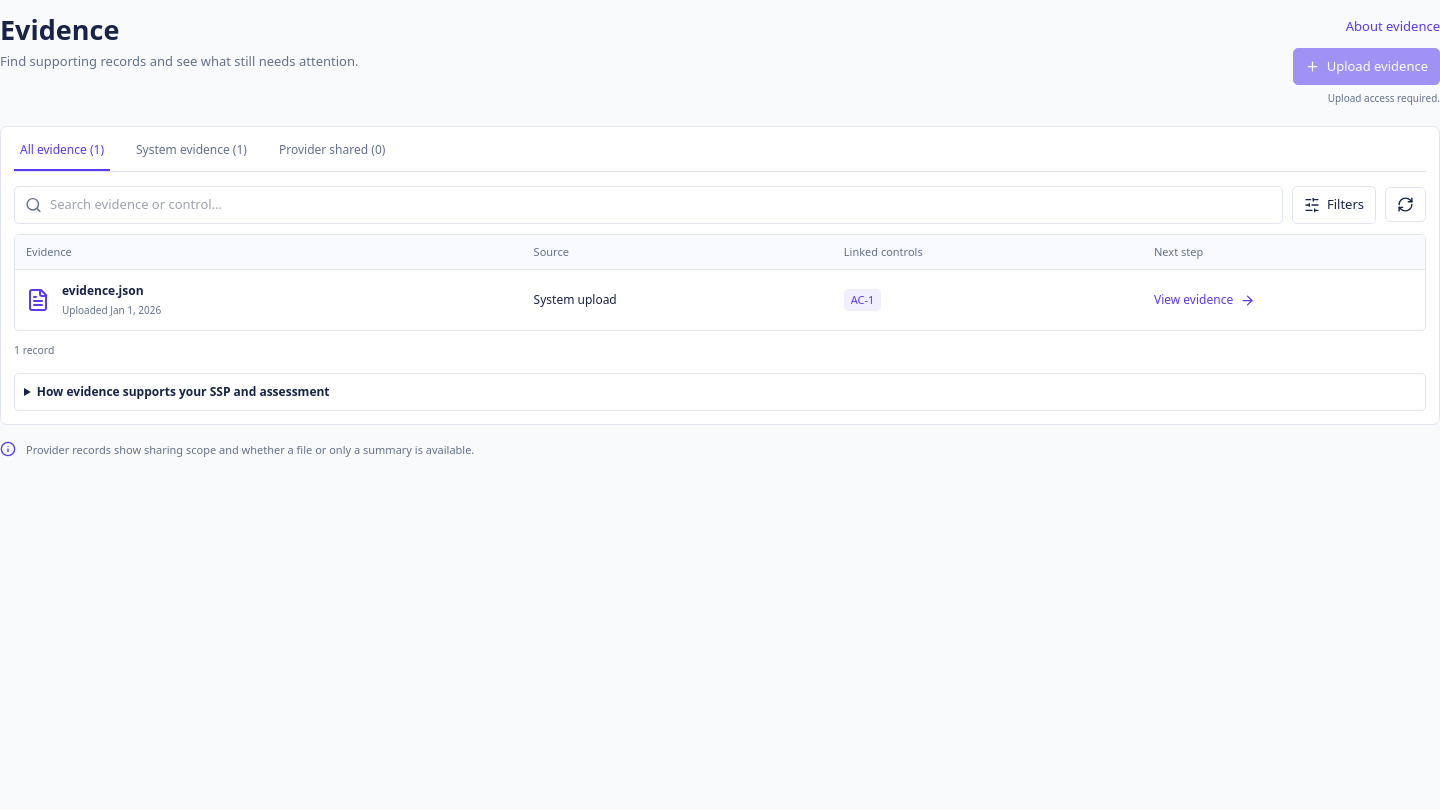
Test: Evidence mutation authorization (#1017) › ignores MissionOwner forged AO preference for repository controls and handlers
The width and height of the screenshot is (1440, 810).
Check: the text "evidence.json" is shown, box [62,282,144,299]
Click the button with aria-label "View evidence evidence.json": (94, 300) [26,282,161,318]
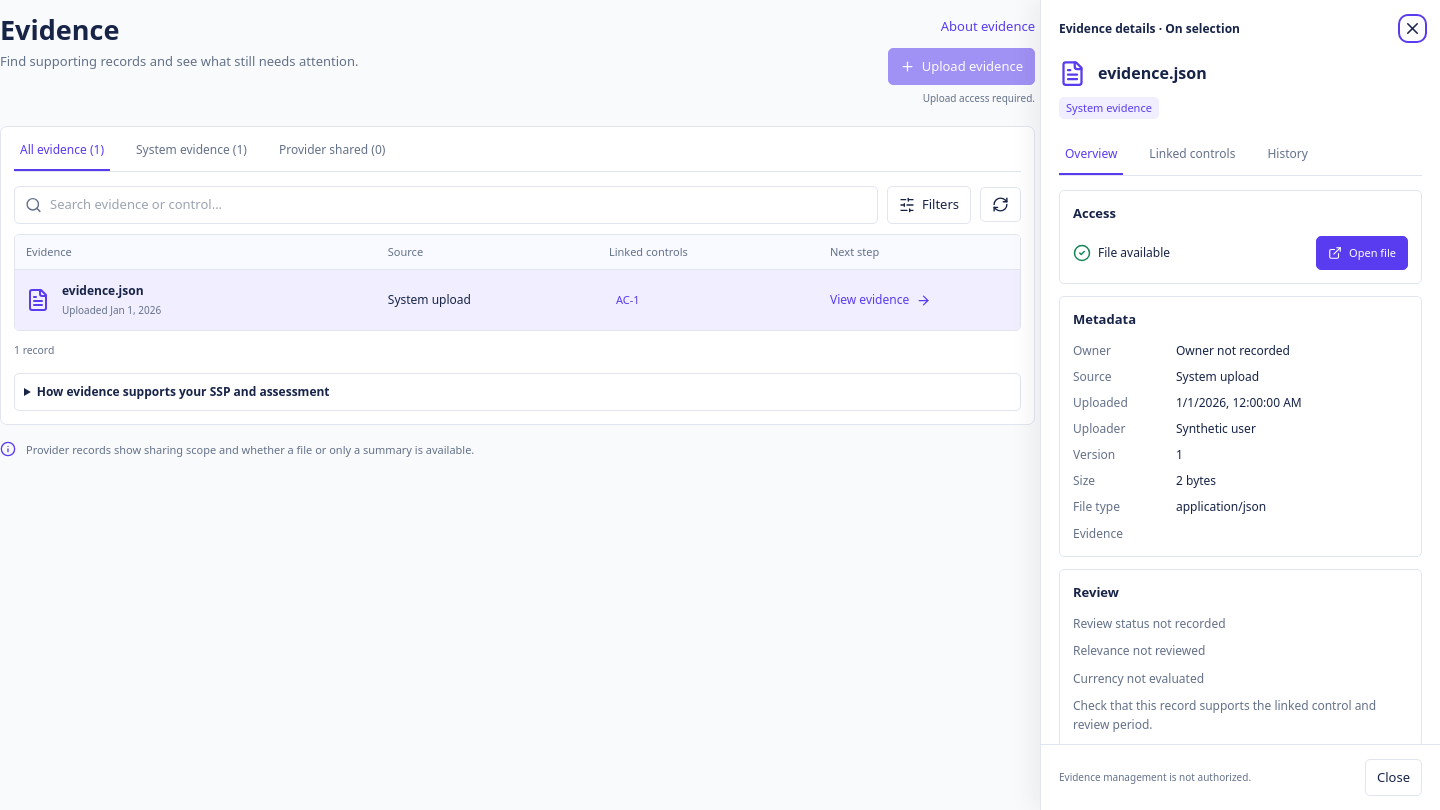
Check: the button "Upload evidence" is disabled, box [888,48,1035,85]
Check: the text "Evidence management is not authorized." is shown, box [1059,770,1251,785]
